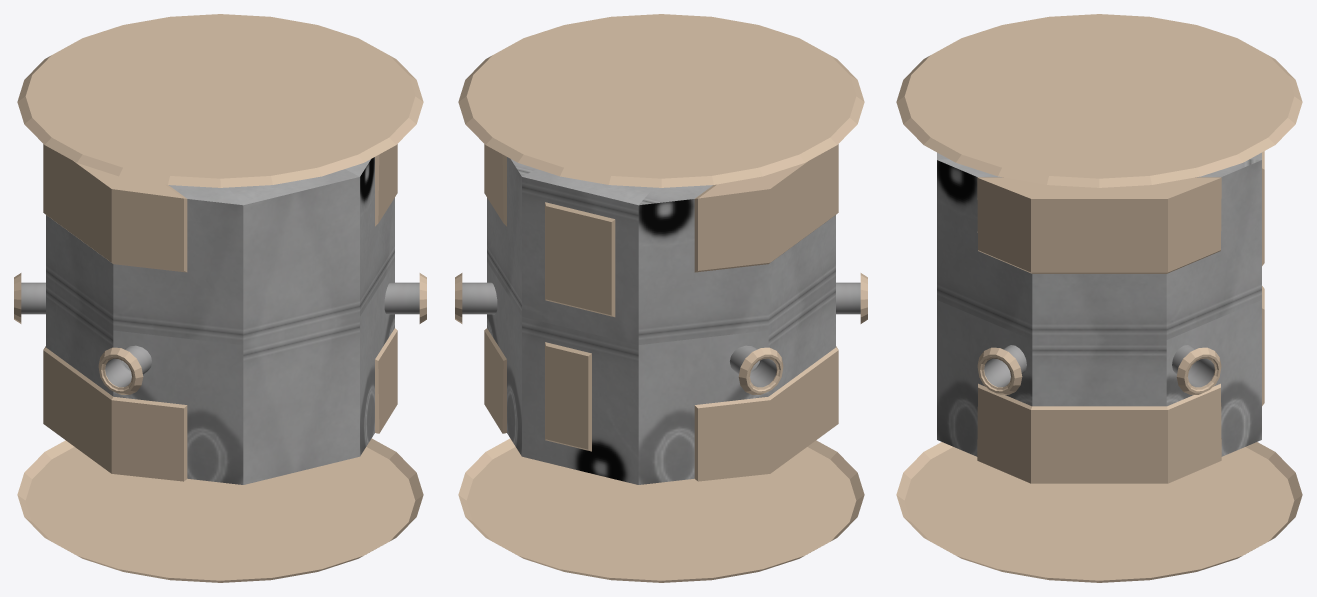
The model's file is mol_iva_small_module.obj.
The picture shows the model from 3 angles, left to right: view 1: azimuth 30°, elevation 25°; view 2: azimuth 150°, elevation 25°; view 3: azimuth 270°, elevation 25°; orthographic projection.
Parts seen in each view (by area): view 1: im1, i1; view 2: im1, i1; view 3: im1, i1.
Boxes of the visible parts, <box> form: im1: <box>14,14,426,582</box>; i1: <box>21,157,419,484</box>; im1: <box>455,14,867,582</box>; i1: <box>462,157,860,484</box>; im1: <box>896,14,1302,582</box>; i1: <box>937,152,1261,456</box>.
Size of the model in its own units: 1.88 by 2.06 by 1.87.
